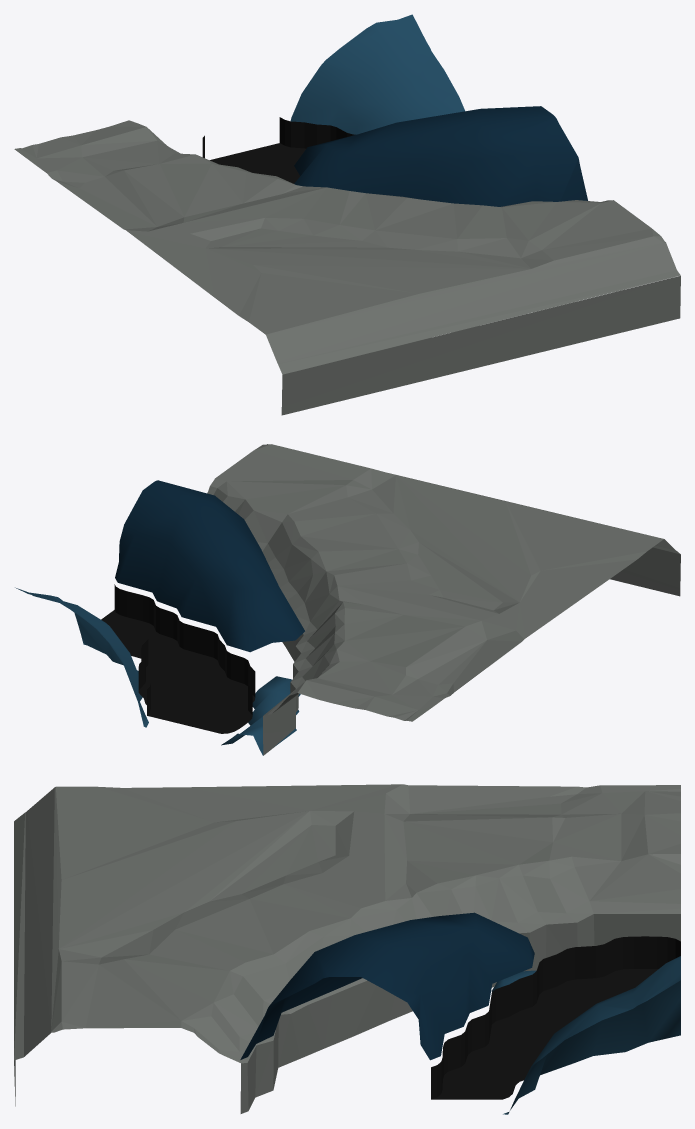
Rendered from newshb-117-f2.glb.
The picture shows the model from 3 angles, top to bottom: view 1: azimuth 30°, elevation 25°; view 2: azimuth 150°, elevation 25°; view 3: azimuth 270°, elevation 25°; orthographic projection. The views are drawn at different scales.
Parts seen in each view (by area): view 1: newshb-117; view 2: newshb-117; view 3: newshb-117.
Boxes of the visible parts, x1=… form: newshb-117: x1=14, y1=14, x2=680, y2=415; newshb-117: x1=15, y1=444, x2=680, y2=755; newshb-117: x1=14, y1=784, x2=680, y2=1114.
Size of the model in its own units: 2 by 0.5474 by 2.33.
